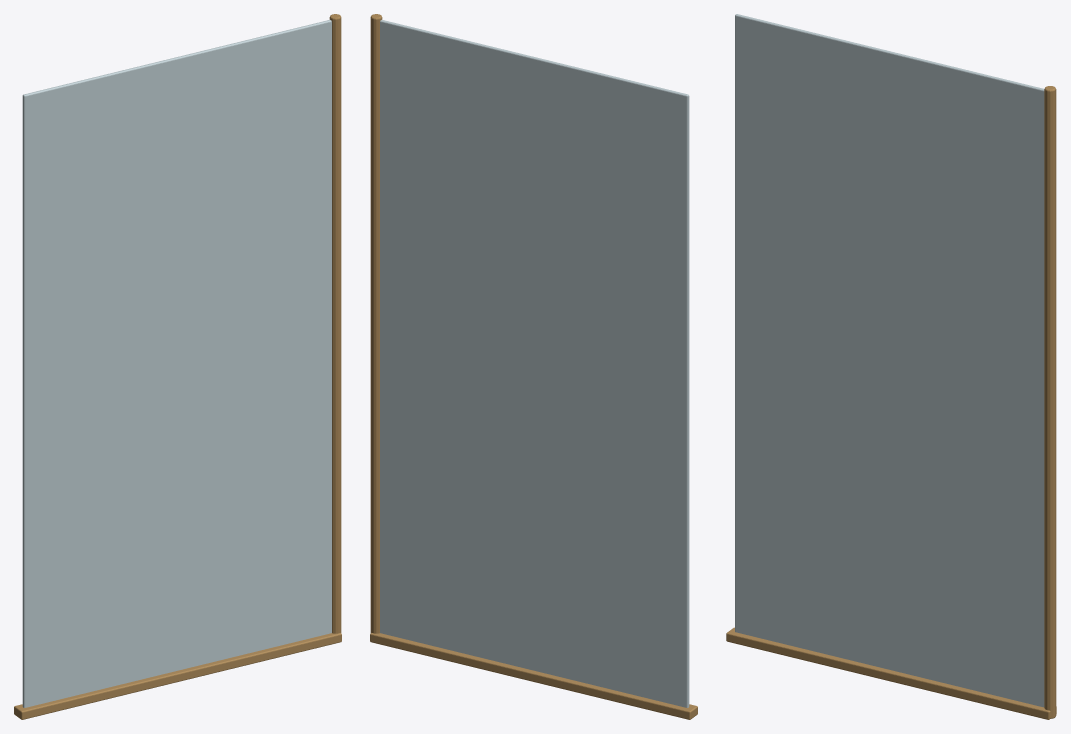
Rendered from shower-screen.glb.
The picture shows the model from 3 angles, left to right: view 1: azimuth 30°, elevation 25°; view 2: azimuth 150°, elevation 25°; view 3: azimuth 330°, elevation 25°; orthographic projection.
Visible parts, largest first — view 1: screen_glass, screen_post, screen_channel; view 2: screen_glass, screen_post, screen_channel; view 3: screen_glass, screen_post, screen_channel.
Boxes of the visible parts, box(x1,y1,x2,y2) form: screen_glass: box(22, 20, 331, 707); screen_post: box(329, 14, 341, 633); screen_channel: box(14, 633, 341, 719); screen_glass: box(380, 20, 689, 707); screen_post: box(370, 14, 382, 633); screen_channel: box(370, 633, 697, 719); screen_glass: box(735, 14, 1044, 707); screen_post: box(1044, 86, 1056, 718); screen_channel: box(726, 627, 1056, 719).
Size of the model in its own units: 1.15 by 2.12 by 0.05.
